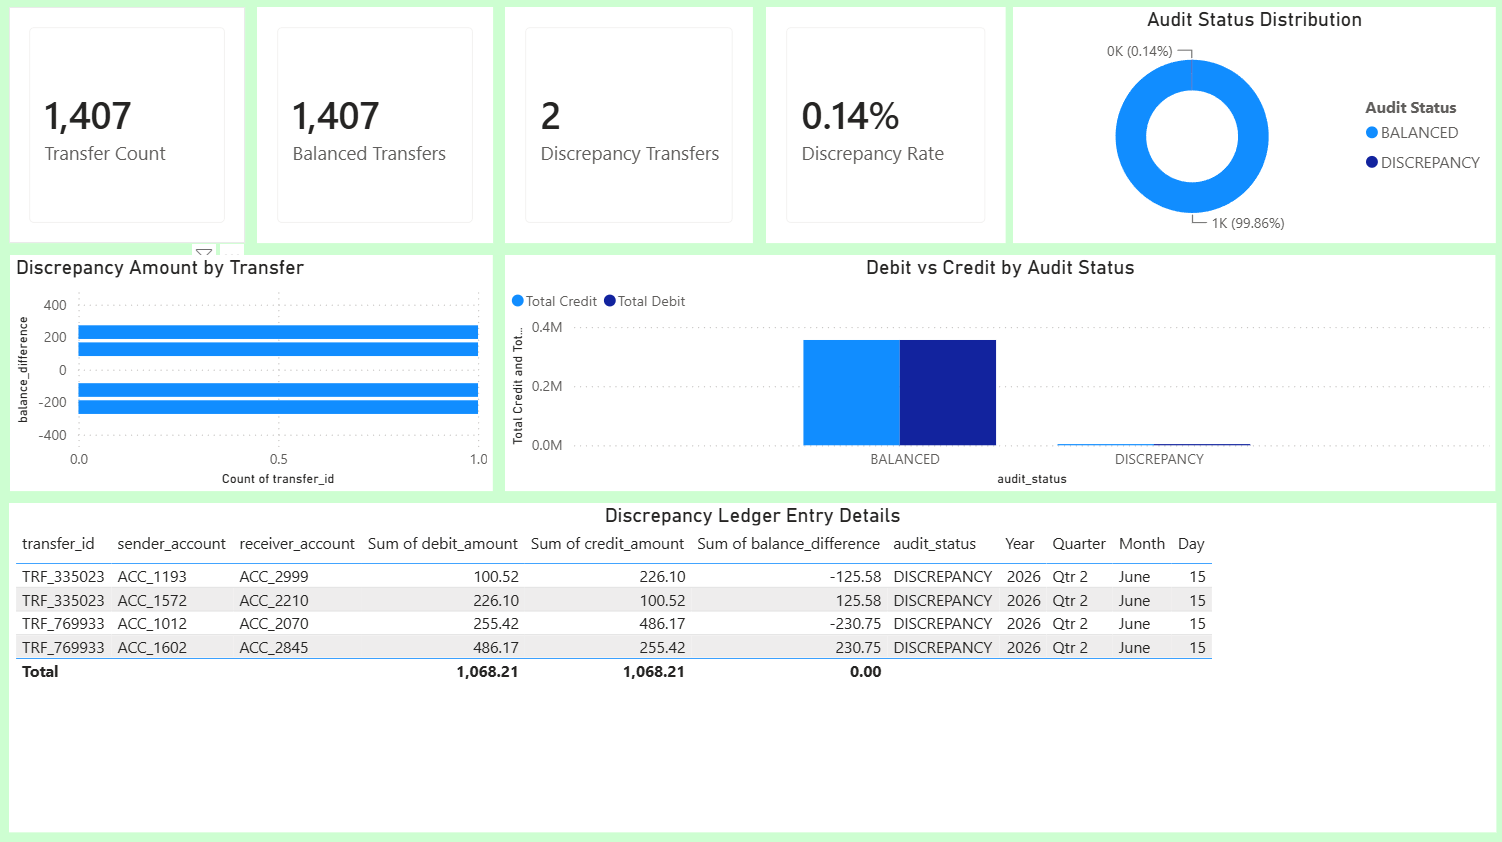

The page's visual inventory and layout, read from the dashboard file:
{"tool":"powerbi","page":{"name":"Page 2","canvas":[1280,720],"ordinal":1},"visuals":[{"type":"cardVisual","fields":{"Data":["public_gold gold_ledger_reconciliation.Transfer Count Display"]},"box":[10.1,10.1,200.2,200.2],"z":0},{"type":"cardVisual","fields":{"Data":["public_gold gold_ledger_reconciliation.Balanced Transfers Display"]},"box":[220.4,10.1,200.2,200.2],"z":1000},{"type":"cardVisual","fields":{"Data":["public_gold gold_ledger_reconciliation.Discrepancy Transfers Display"]},"box":[430.7,10.1,210.3,200.2],"z":2000},{"type":"cardVisual","fields":{"Data":["public_gold gold_ledger_reconciliation.Discrepancy Rate"]},"box":[651.1,10.1,203.2,200.2],"z":3000},{"type":"donutChart","title":"Audit Status Distribution","fields":{"Category":["public_gold gold_ledger_reconciliation.audit_status"],"Y":["public_gold gold_ledger_reconciliation.Transfer Count"]},"box":[860.4,10.1,409.5,200.2],"z":4000},{"type":"clusteredColumnChart","title":"Debit vs Credit by Audit Status","fields":{"Category":["public_gold gold_ledger_reconciliation.audit_status"],"Y":["Sum(public_gold gold_ledger_reconciliation.credit_amount)","Sum(public_gold gold_ledger_reconciliation.debit_amount)"]},"box":[430.7,220.4,839.2,200.2],"z":5000},{"type":"clusteredBarChart","title":"Discrepancy Amount by Transfer","fields":{"Category":["public_gold gold_ledger_reconciliation.balance_difference"],"Y":["CountNonNull(public_gold gold_ledger_reconciliation.transfer_id)"]},"box":[11.1,220.4,409.5,200.2],"z":6000},{"type":"tableEx","title":"Discrepancy Ledger Entry Details","fields":{"Values":["public_gold gold_ledger_reconciliation.transfer_id","public_gold gold_ledger_reconciliation.sender_account","public_gold gold_ledger_reconciliation.receiver_account","Sum(public_gold gold_ledger_reconciliation.debit_amount)","Sum(public_gold gold_ledger_reconciliation.credit_amount)","Sum(public_gold gold_ledger_reconciliation.balance_difference)","public_gold gold_ledger_reconciliation.audit_status","public_gold gold_ledger_reconciliation.transfer_at.Variation.Date Hierarchy.Year","public_gold gold_ledger_reconciliation.transfer_at.Variation.Date Hierarchy.Quarter","public_gold gold_ledger_reconciliation.transfer_at.Variation.Date Hierarchy.Month","public_gold gold_ledger_reconciliation.transfer_at.Variation.Date Hierarchy.Day"]},"box":[10.1,430.7,1259.8,279.1],"z":6001}]}

Visuals, with their boxes in screenshot pixels (x1, y1, x2, y2), scaled from the page's 1280x720 canvas onto the 1502x842 screenshot:
cardVisual - public_gold gold_ledger_reconciliation.Transfer Count Display: bbox=(12, 12, 247, 246)
cardVisual - public_gold gold_ledger_reconciliation.Balanced Transfers Display: bbox=(259, 12, 494, 246)
cardVisual - public_gold gold_ledger_reconciliation.Discrepancy Transfers Display: bbox=(505, 12, 752, 246)
cardVisual - public_gold gold_ledger_reconciliation.Discrepancy Rate: bbox=(764, 12, 1002, 246)
"Audit Status Distribution" donutChart: bbox=(1010, 12, 1490, 246)
"Debit vs Credit by Audit Status" clusteredColumnChart: bbox=(505, 258, 1490, 492)
"Discrepancy Amount by Transfer" clusteredBarChart: bbox=(13, 258, 494, 492)
"Discrepancy Ledger Entry Details" tableEx: bbox=(12, 504, 1490, 830)
